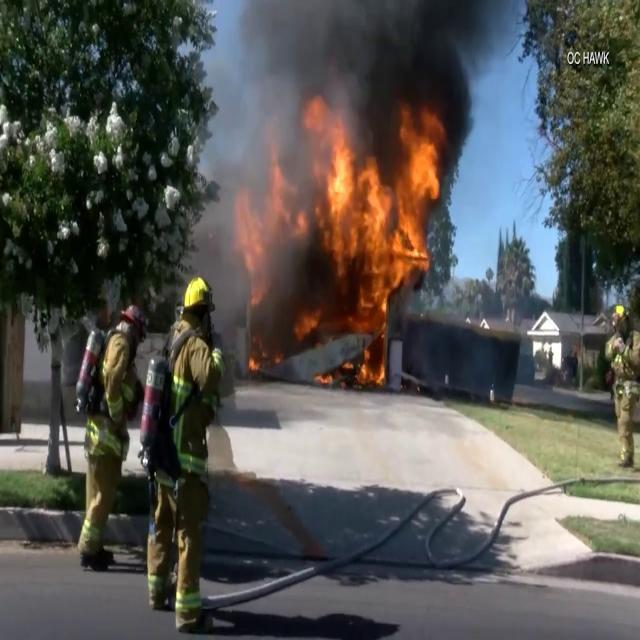Fire: (259, 98, 448, 353)
Smoke: (227, 0, 507, 160)
